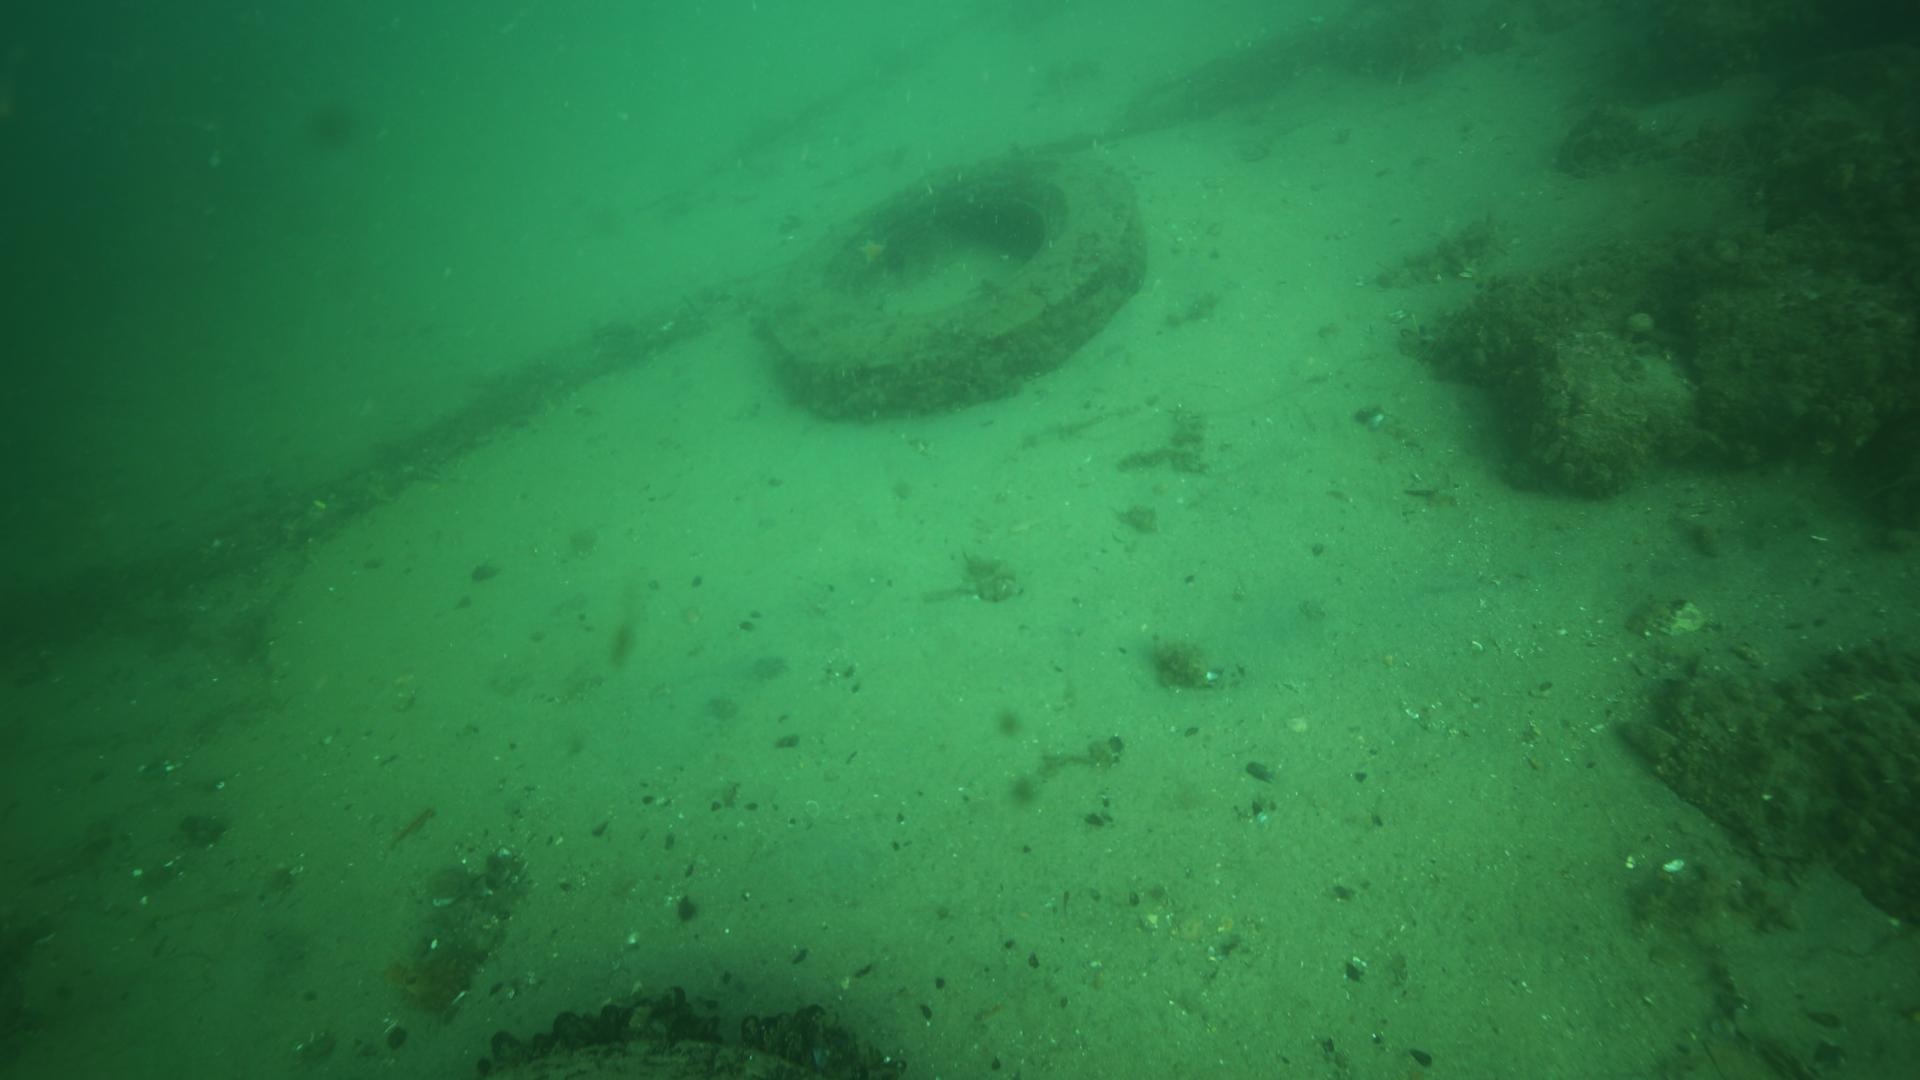tire: (757, 127, 1150, 423)
